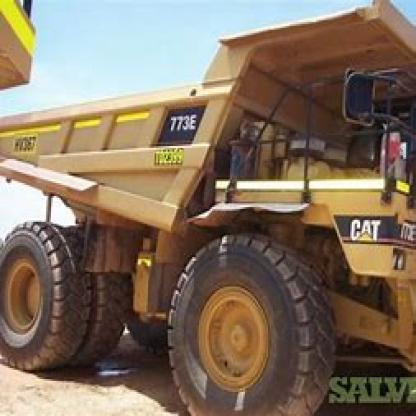dump_truck: (5, 4, 414, 403)
